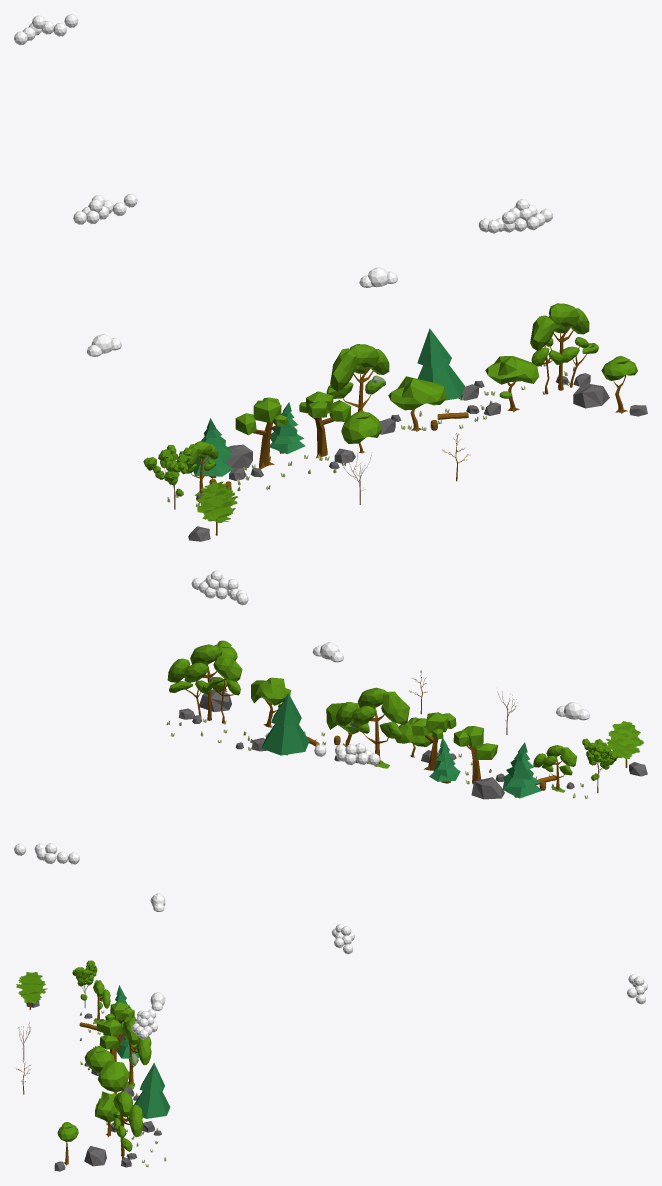
File: foret.fbx
The picture shows the model from 3 angles, top to bottom: view 1: azimuth 30°, elevation 25°; view 2: azimuth 150°, elevation 25°; view 3: azimuth 270°, elevation 25°; orthographic projection. The views are drawn at different scales.
Visible parts, largest first — view 1: Low_Poly_N, skpEFB7_1, skp7EEA1, skp4847_1, Componen12, Group6, NUVEM1, skp5771_1, Group27, skp3703_1, Group4, NUVEM_1_1 (+5 smaller); view 2: skpEFB7_1, Low_Poly_N, skp7EEA1, skp4847_1, Group4, Group6, Componen12, NUVEM1, skp7EEA_1_, Group27, NUVEM_1_1, skp3703_1 (+5 smaller); view 3: Low_Poly_N, skpEFB7_1, skp4847_1, skp7EEA1, skp5771_1, Group27, Group6, NUVEM1, skp665F1, skp3703_1, NUVEM_1_1, Componen12 (+2 smaller).
Boxes of the visible parts, box(x1,y1,x2,y2) form: Low_Poly_N: box(167, 364, 647, 541); skpEFB7_1: box(530, 303, 598, 394); skp7EEA1: box(326, 344, 389, 411); skp4847_1: box(417, 328, 464, 400); Componen12: box(235, 397, 287, 469); Group6: box(299, 391, 351, 458); NUVEM1: box(478, 199, 552, 233); skp5771_1: box(388, 376, 446, 410); Group27: box(196, 481, 237, 522); skp3703_1: box(485, 356, 539, 398); Group4: box(193, 418, 233, 478); NUVEM_1_1: box(73, 194, 137, 224); skpEFB7_1: box(167, 644, 242, 723); Low_Poly_N: box(166, 677, 647, 799); skp7EEA1: box(335, 687, 409, 768); skp4847_1: box(261, 693, 309, 755); Group4: box(502, 742, 541, 798); Group6: box(411, 712, 456, 770); Componen12: box(453, 726, 498, 784); NUVEM1: box(191, 570, 248, 605); skp7EEA_1_: box(533, 745, 576, 792); Group27: box(606, 721, 643, 759); NUVEM_1_1: box(314, 743, 379, 765); skp3703_1: box(251, 677, 291, 707); Low_Poly_N: box(26, 999, 166, 1171); skpEFB7_1: box(113, 1091, 143, 1158); skp4847_1: box(134, 1063, 170, 1118); skp7EEA1: box(121, 1017, 151, 1089); skp5771_1: box(98, 1060, 129, 1092); Group27: box(16, 972, 47, 1003); Group6: box(96, 1019, 122, 1061); NUVEM1: box(131, 1009, 157, 1039); skp665F1: box(84, 1046, 114, 1072); skp3703_1: box(95, 1091, 117, 1122); NUVEM_1_1: box(332, 924, 354, 954); Componen12: box(105, 1002, 134, 1049).
Bounding box in the file's own units: 8378 × 3063 × 12635.
